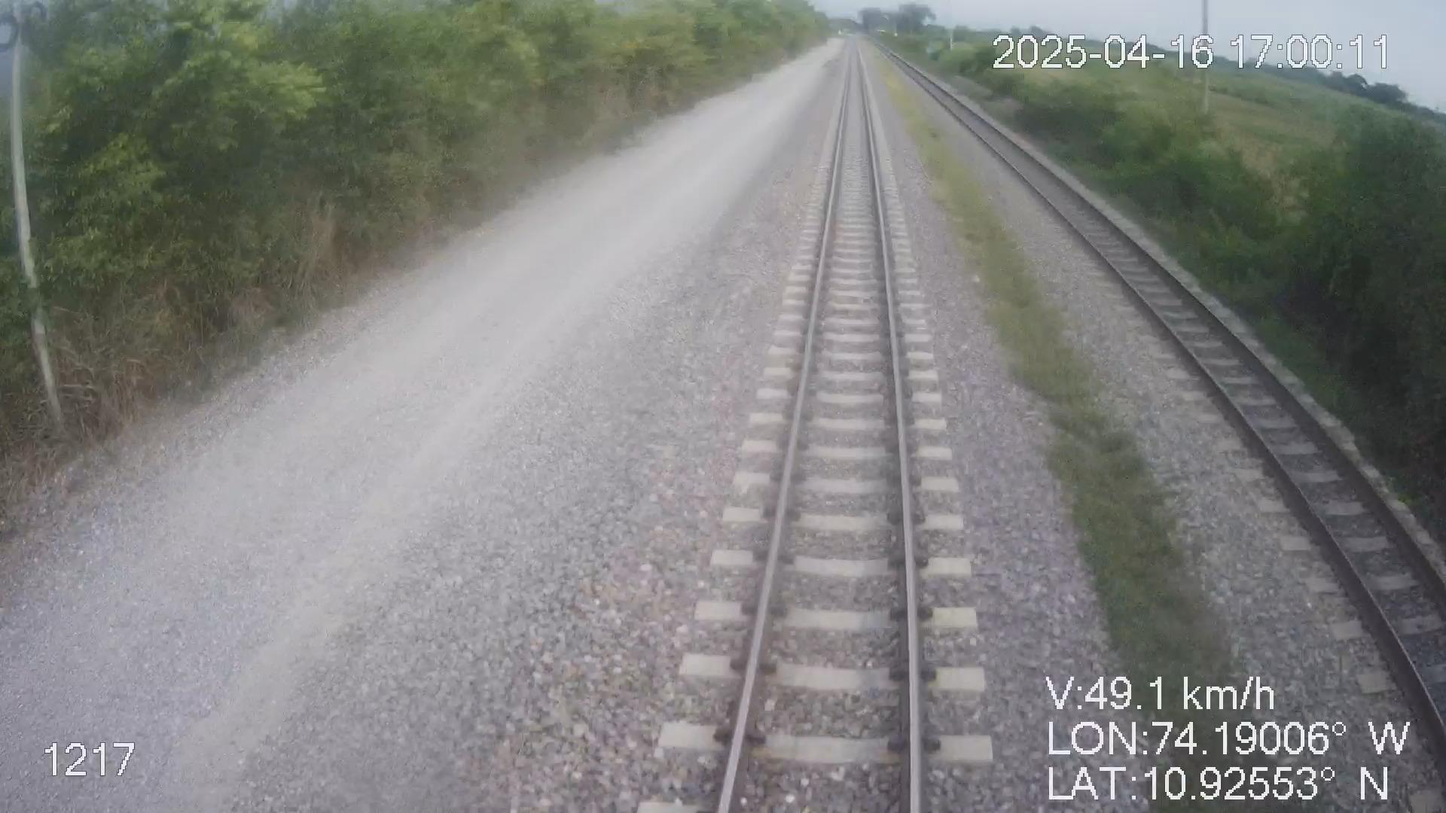Pasto: (0, 0, 841, 459), (889, 29, 1445, 568)
